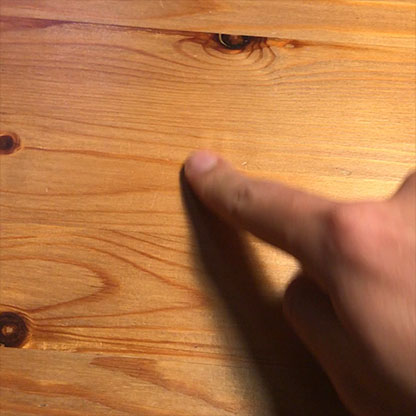fingertip: (181, 142, 231, 185)
